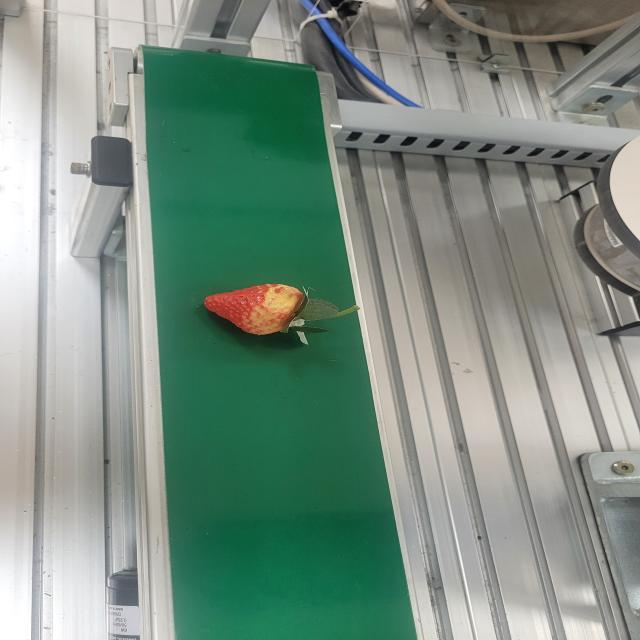Moldy Strawberry: (202, 281, 307, 337)
